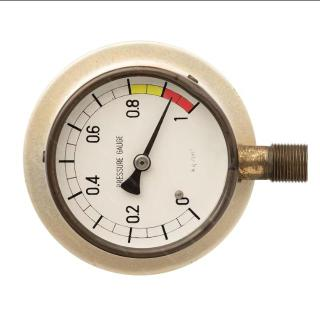gauge: (23, 46, 291, 282), (172, 188, 210, 224), (179, 97, 203, 123), (132, 153, 152, 171), (166, 94, 175, 104)
